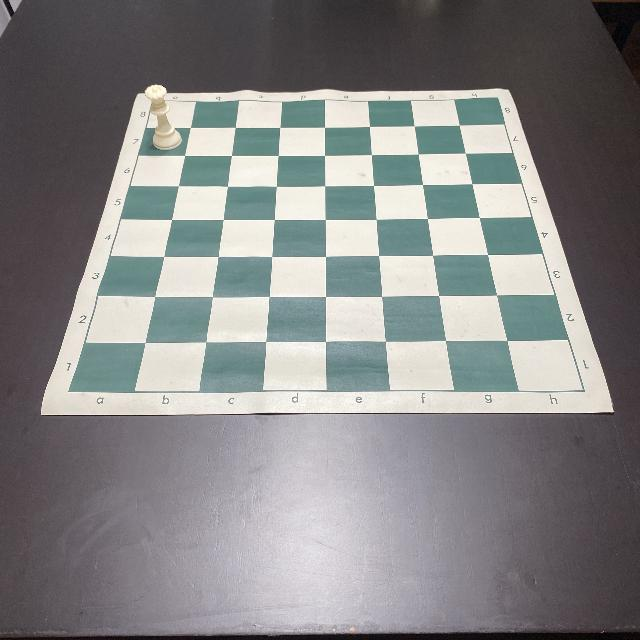board: (41, 92, 614, 416)
white-queen: (144, 84, 182, 150)
